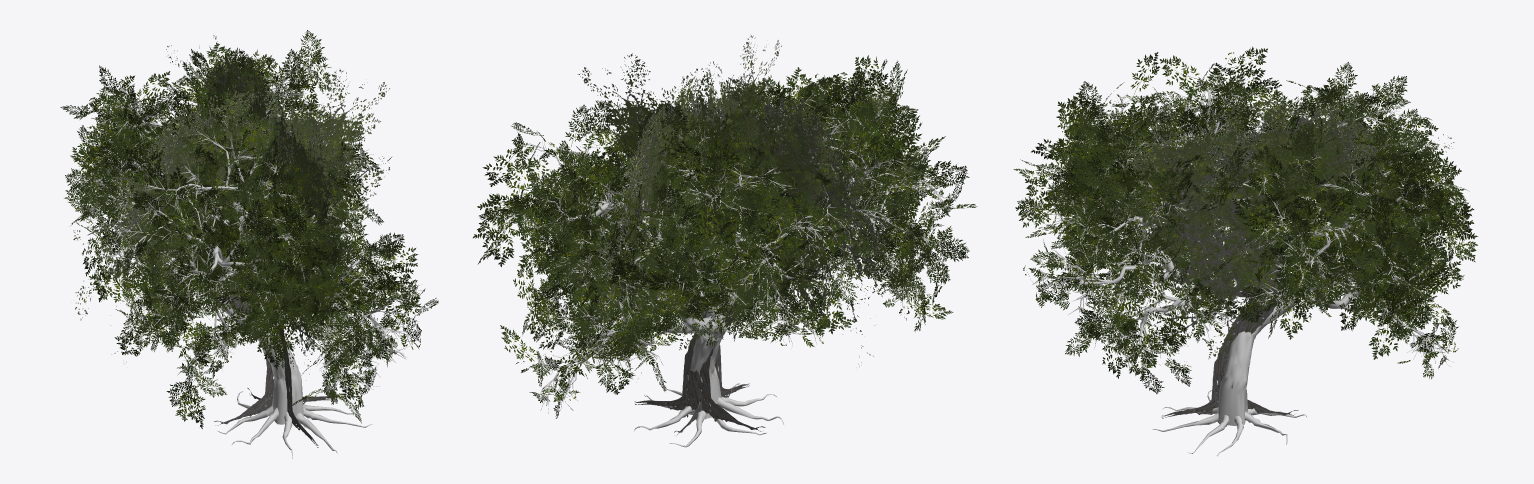
Rendered from Tree_A0.fbx.
3 views of the same model, side by side, from view 1: azimuth 30°, elevation 25°; view 2: azimuth 150°, elevation 25°; view 3: azimuth 270°, elevation 25° (orthographic). The views are drawn at different scales.
Parts seen in each view (by area): view 1: Tree_A0_LOD0, Tree_A0_Billboard; view 2: Tree_A0_LOD0, Tree_A0_Billboard; view 3: Tree_A0_LOD0, Tree_A0_Billboard.
Boxes of the visible parts, x1=… form: Tree_A0_LOD0: x1=60, y1=30, x2=438, y2=458; Tree_A0_Billboard: x1=73, y1=35, x2=392, y2=447; Tree_A0_LOD0: x1=473, y1=55, x2=977, y2=447; Tree_A0_Billboard: x1=576, y1=34, x2=914, y2=434; Tree_A0_LOD0: x1=1013, y1=46, x2=1478, y2=456; Tree_A0_Billboard: x1=1100, y1=93, x2=1454, y2=418.
Size of what is drawn, in the model's own units: 631 by 605 by 712.
